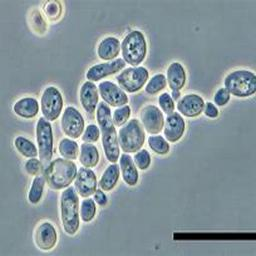Yeast: (97, 101, 118, 162), (123, 29, 147, 67), (61, 185, 79, 234), (87, 59, 126, 81), (37, 118, 53, 170), (225, 71, 256, 96), (117, 67, 148, 91), (98, 83, 128, 107), (62, 107, 84, 138), (75, 169, 97, 197), (80, 82, 99, 114), (42, 87, 61, 119), (36, 223, 57, 250), (27, 8, 49, 33), (178, 95, 204, 116), (98, 37, 121, 60), (15, 137, 38, 159), (29, 174, 46, 203), (167, 63, 185, 90), (14, 99, 39, 117), (43, 0, 63, 21), (103, 164, 119, 190), (146, 75, 167, 92), (83, 197, 96, 222), (26, 157, 42, 175), (214, 89, 230, 106)
